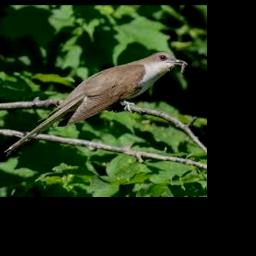Cuckoo: (4, 51, 187, 156)
